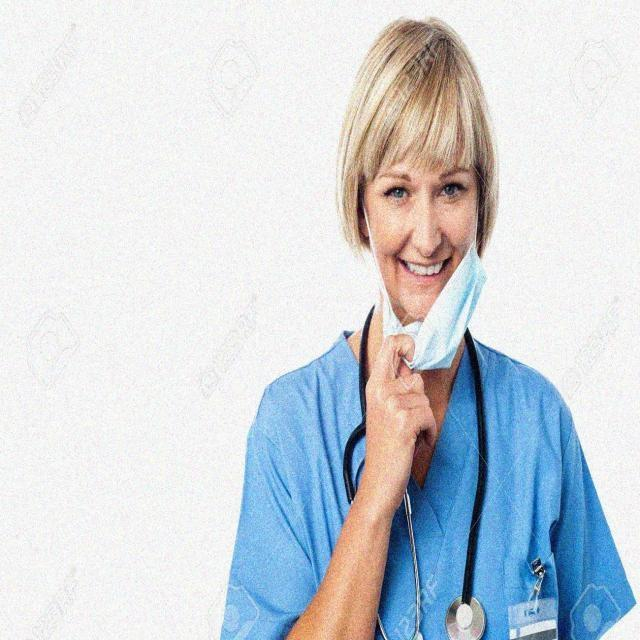hairnet: (344, 110, 500, 382)
